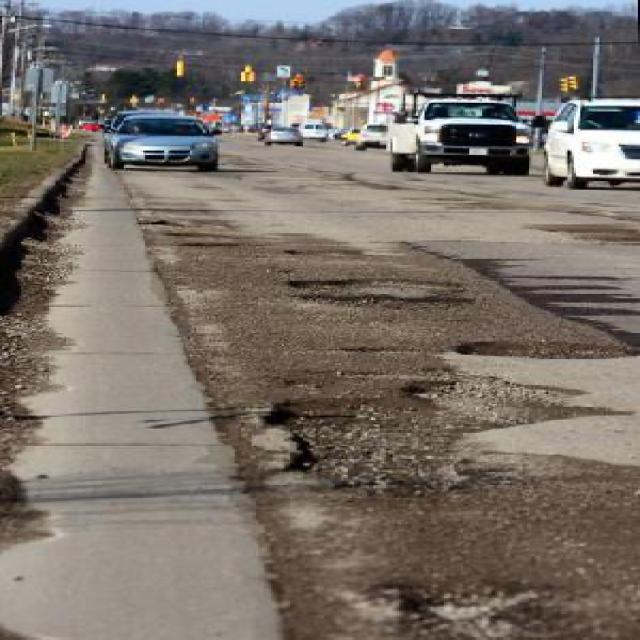jalan_berlubang: (254, 382, 466, 496), (382, 373, 618, 420), (386, 580, 567, 640), (286, 290, 470, 314), (459, 338, 636, 361), (281, 276, 464, 291), (284, 247, 361, 263), (179, 240, 249, 250), (163, 232, 233, 239)
